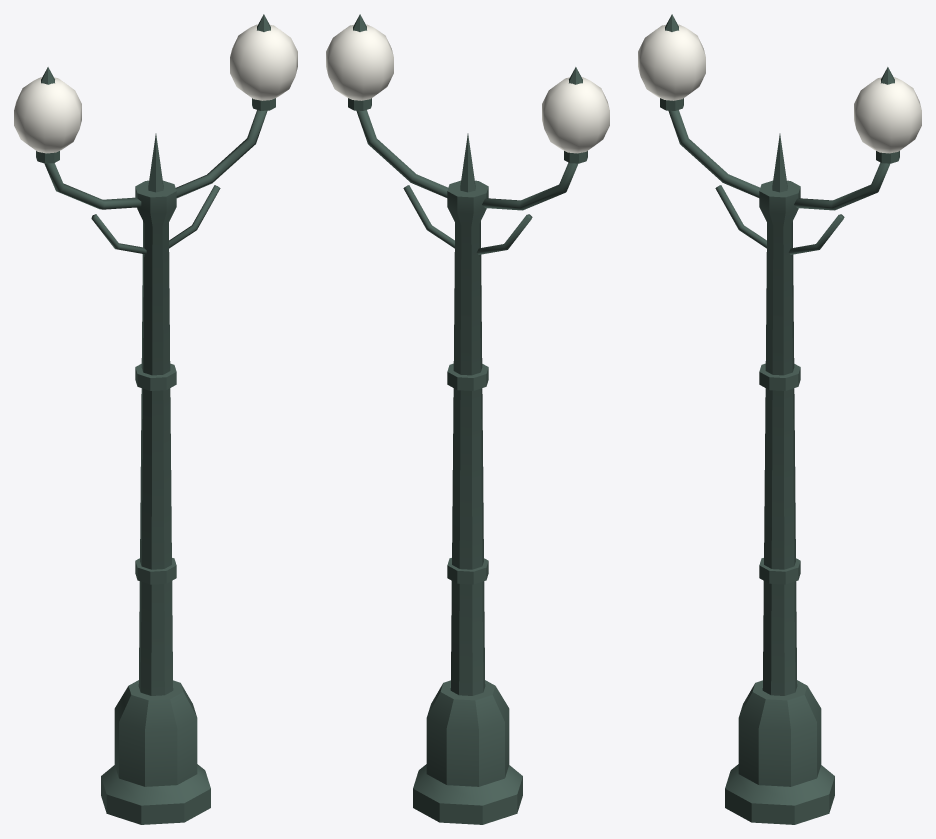
File: street_lamp.fbx
3 renders of one model, left to right at view 1: azimuth 30°, elevation 25°; view 2: azimuth 150°, elevation 25°; view 3: azimuth 330°, elevation 25°, orthographic.
Parts seen in each view (by area): view 1: street_lamp; view 2: street_lamp; view 3: street_lamp.
Boxes of the visible parts, x1=… form: street_lamp: x1=14, y1=14, x2=297, y2=824; street_lamp: x1=326, y1=14, x2=609, y2=824; street_lamp: x1=638, y1=14, x2=921, y2=824.
Bounding box in the file's own units: 1.77 × 4.72 × 0.64.
